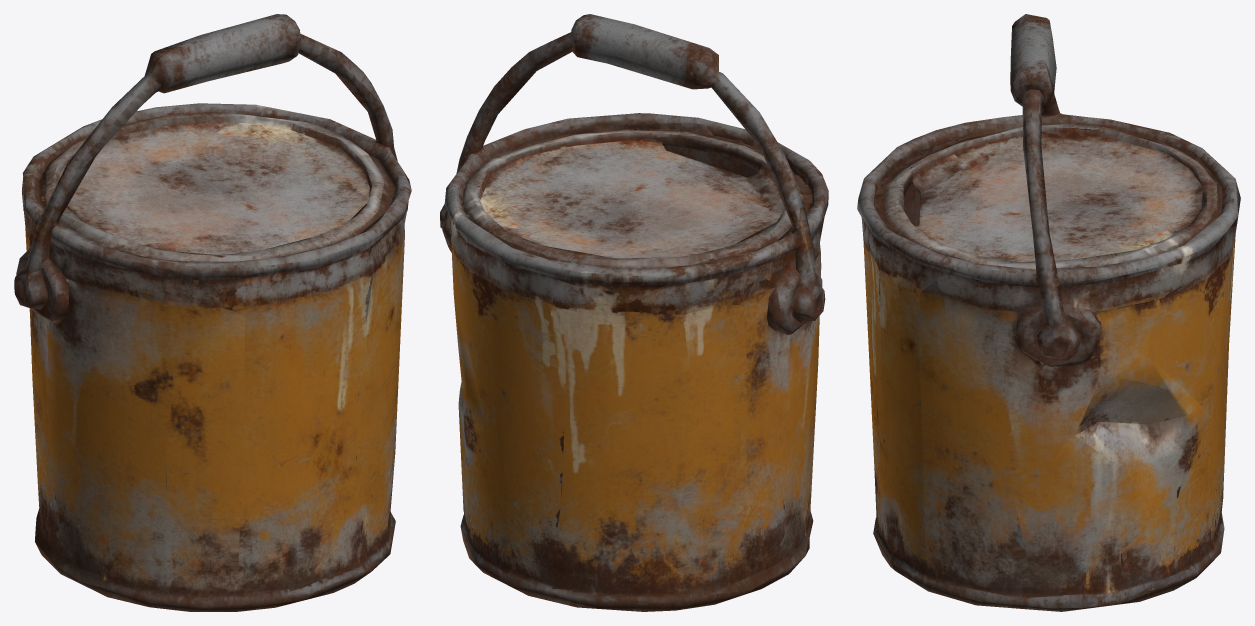
The model's file is dented_paint_bucket.glb.
3 views of the same model, side by side, from view 1: azimuth 30°, elevation 25°; view 2: azimuth 150°, elevation 25°; view 3: azimuth 270°, elevation 25° (orthographic). The views are drawn at different scales.
Size of the model in its own units: 0.31 by 0.4 by 0.277.
Materials: 1 (1 with a texture image).
